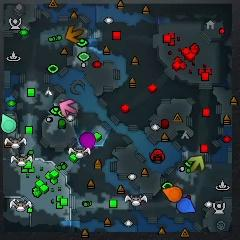p1: (176, 197, 196, 214)
p2: (0, 113, 17, 133)
p3: (80, 132, 96, 149)
p5: (162, 186, 183, 202)
x1: (59, 100, 76, 116)
x2: (188, 155, 204, 172)
x5: (66, 25, 83, 43)
